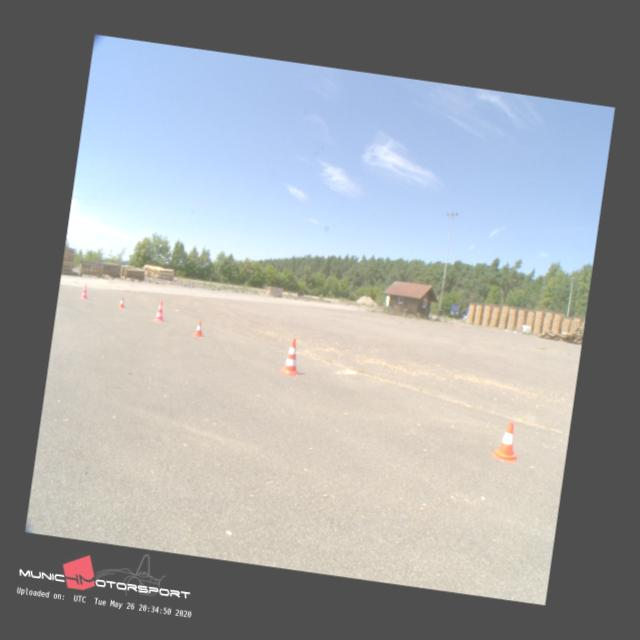large_orange_cone: (280, 338, 304, 376), (153, 300, 166, 322), (80, 284, 88, 298)
orange_cone: (492, 420, 522, 462), (192, 321, 205, 336), (118, 297, 126, 308)
